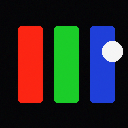2 circle: (102, 41, 122, 61)
